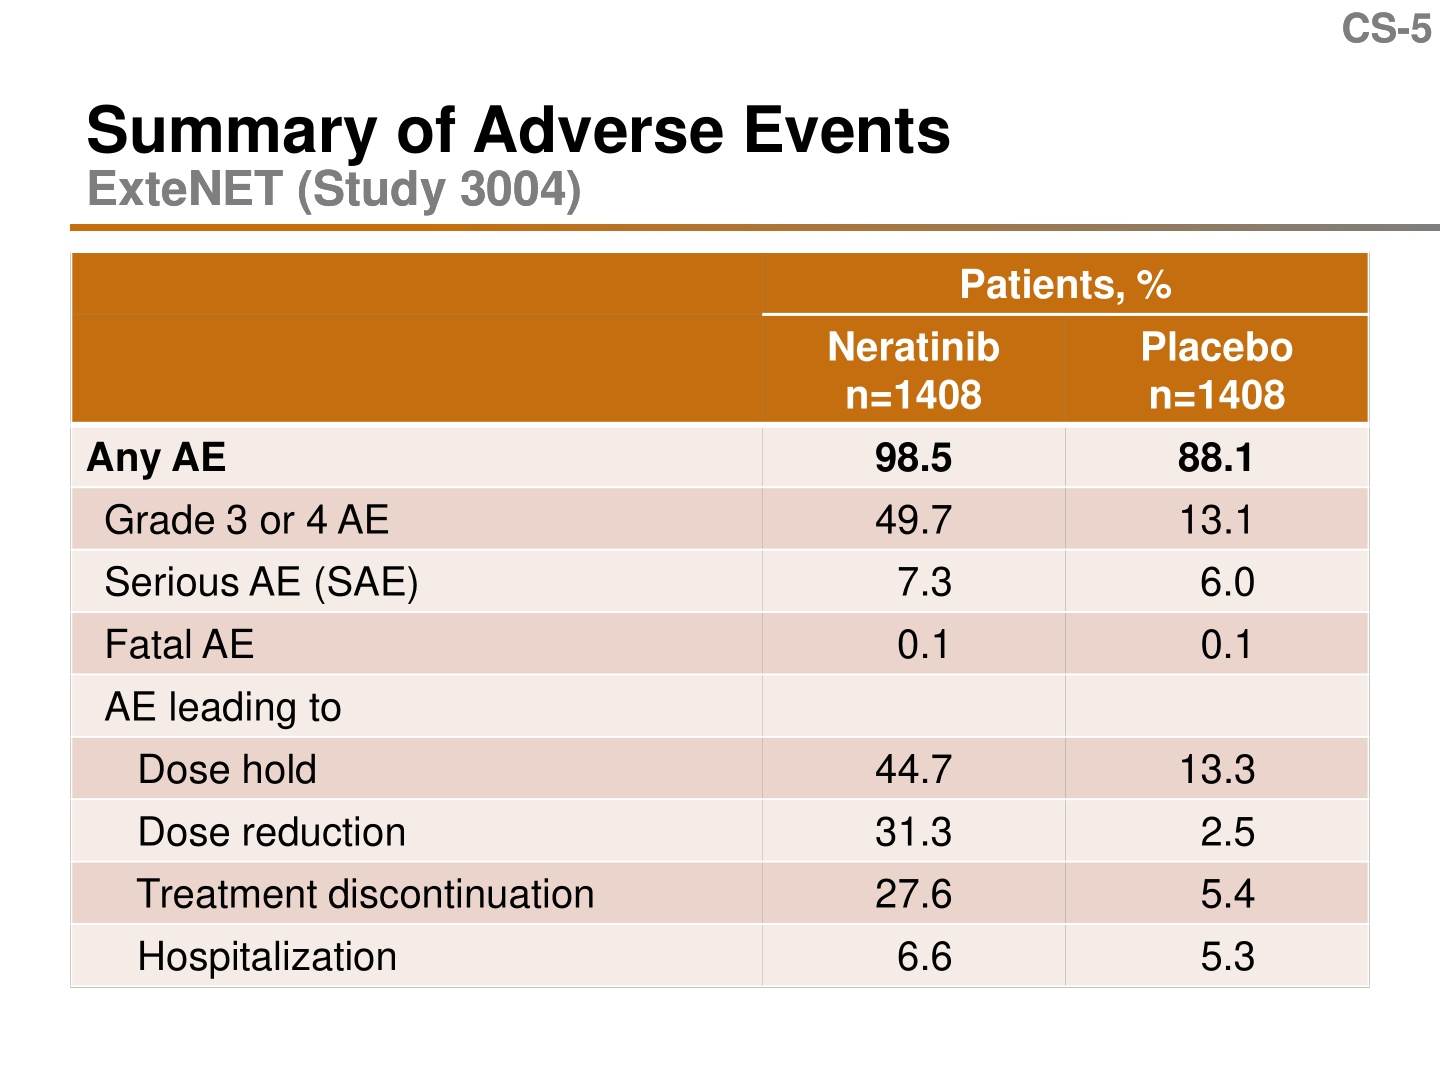merged_cells: (70, 252, 1371, 988)
